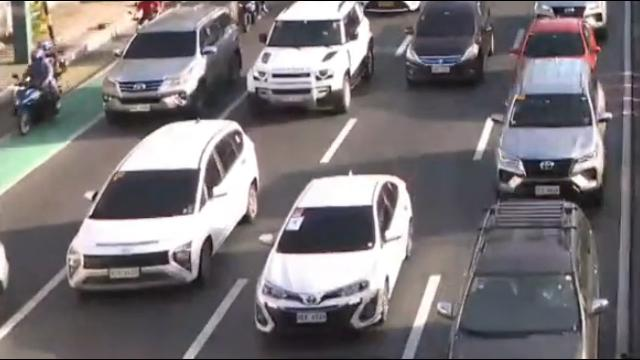car: (65, 116, 262, 297), (434, 199, 610, 360), (252, 171, 412, 337), (489, 57, 614, 200), (100, 5, 243, 124), (246, 0, 373, 115), (406, 0, 495, 86), (509, 17, 600, 85)
motorcycle: (12, 47, 63, 137)
